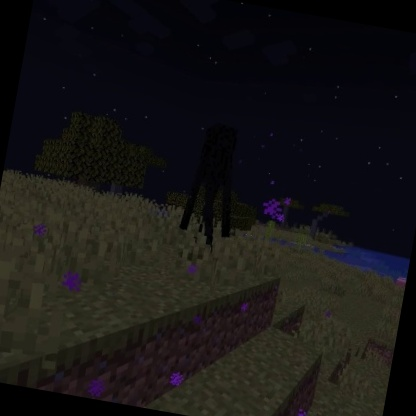enderman: (172, 117, 253, 260)
